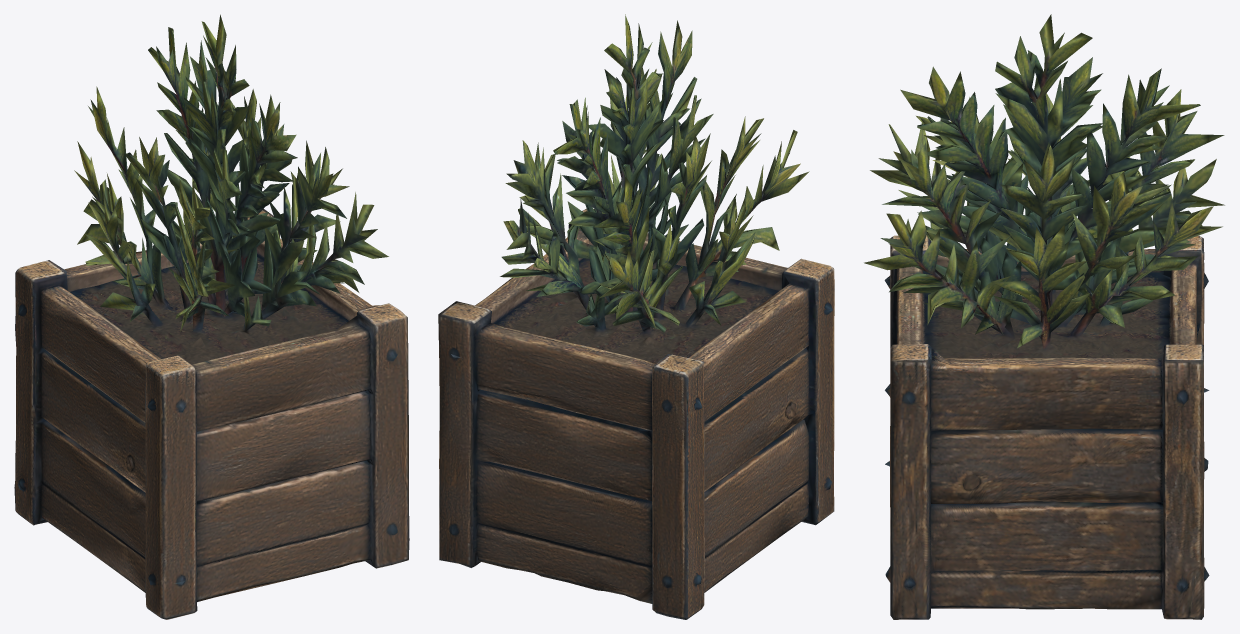
The model's file is EntrancePlanter.fbx.
3 renders of one model, left to right at view 1: azimuth 30°, elevation 25°; view 2: azimuth 150°, elevation 25°; view 3: azimuth 270°, elevation 25°, orthographic. The views are drawn at different scales.
Visible parts, largest first — view 1: tripo_node_bc634b34-ea07-43cb-ac10-f45d1caf4dd3; view 2: tripo_node_bc634b34-ea07-43cb-ac10-f45d1caf4dd3; view 3: tripo_node_bc634b34-ea07-43cb-ac10-f45d1caf4dd3.
Boxes of the visible parts, <box> form: tripo_node_bc634b34-ea07-43cb-ac10-f45d1caf4dd3: <box>14,14,409,619</box>; tripo_node_bc634b34-ea07-43cb-ac10-f45d1caf4dd3: <box>438,14,834,619</box>; tripo_node_bc634b34-ea07-43cb-ac10-f45d1caf4dd3: <box>864,14,1224,619</box>.
Size of the model in its own units: 52.13 by 100 by 59.99.
Materials: 1 (1 with a texture image).
